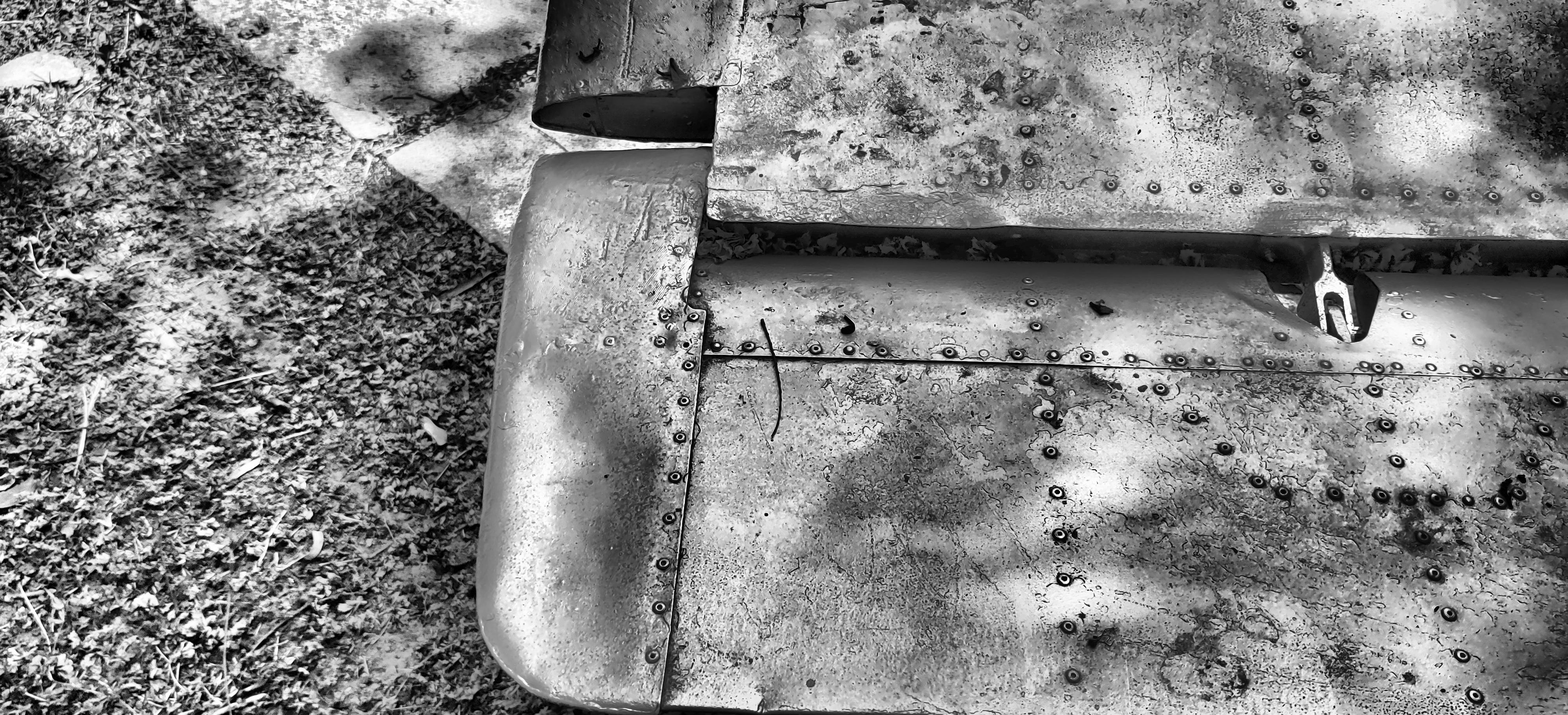dent: (1217, 273, 1284, 324)
missing-head: (682, 341, 690, 350)
paint-peel-off: (821, 182, 907, 194), (807, 0, 850, 8), (898, 0, 920, 13), (918, 16, 937, 28), (799, 4, 805, 29), (873, 0, 893, 6)
scratch: (628, 191, 653, 248), (621, 0, 636, 78)
